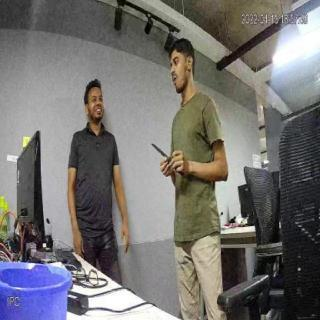knife: (151, 140, 173, 167)
